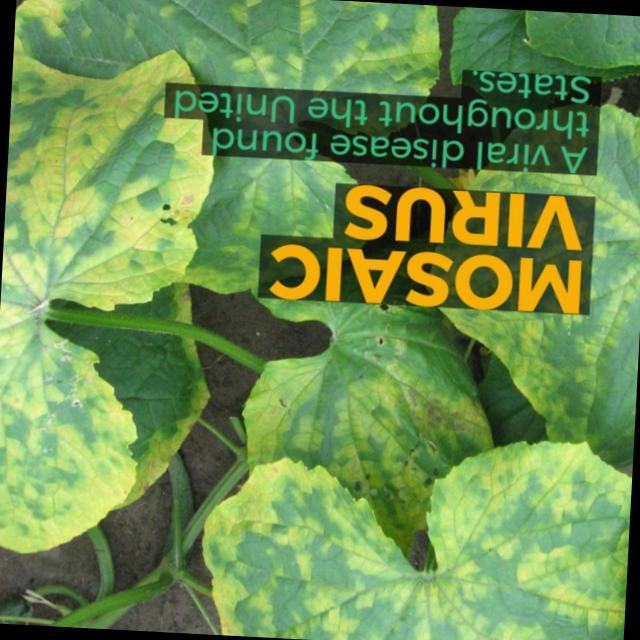Mosaic Virus: (0, 41, 211, 541), (202, 431, 631, 640)
